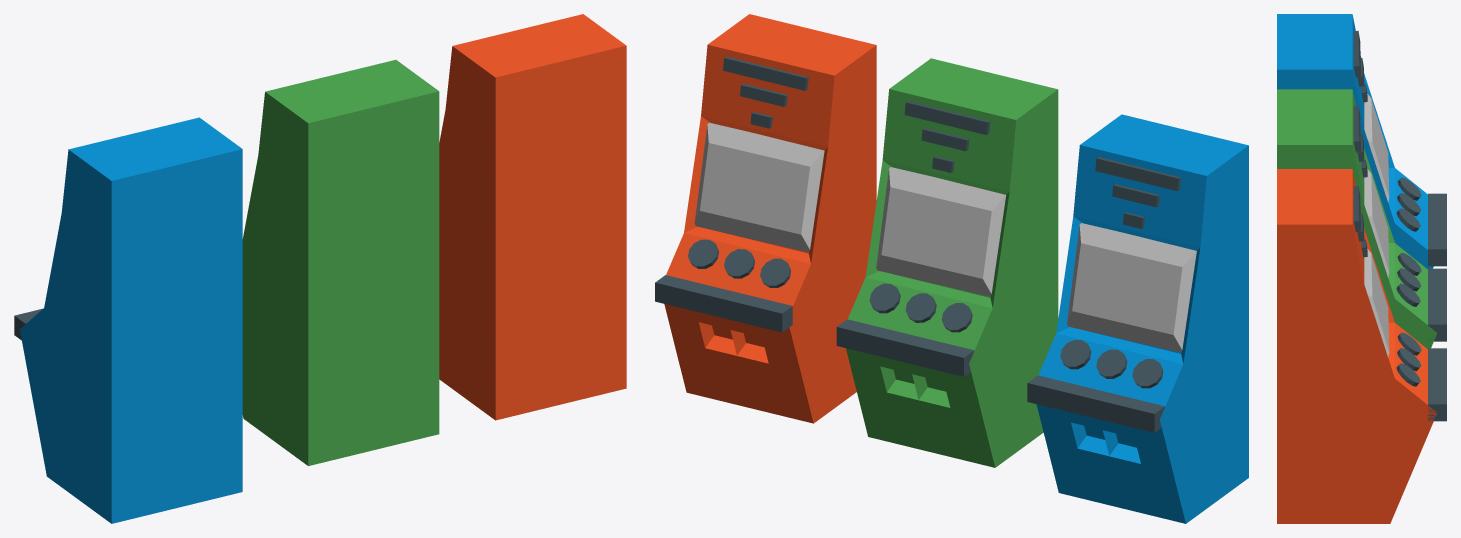
The picture shows the model from 3 angles, left to right: view 1: azimuth 30°, elevation 25°; view 2: azimuth 150°, elevation 25°; view 3: azimuth 270°, elevation 25°; orthographic projection. The views are drawn at different scales.
Visible parts, largest first — view 1: group_488793275, group_343633698, group_134438707; view 2: group_488793275, group_343633698, group_134438707; view 3: group_134438707, group_343633698, group_488793275.
Boxes of the visible parts, x1,y1,x2,y2 form: group_488793275: (14,117,242,523); group_343633698: (242,60,439,465); group_134438707: (439,14,626,420); group_488793275: (1027,114,1248,523); group_343633698: (836,58,1058,467); group_134438707: (655,14,876,423); group_134438707: (1277,169,1446,523); group_343633698: (1277,89,1446,348); group_488793275: (1277,14,1446,269).
Bounding box in the file's own units: 55 × 36 × 18.
